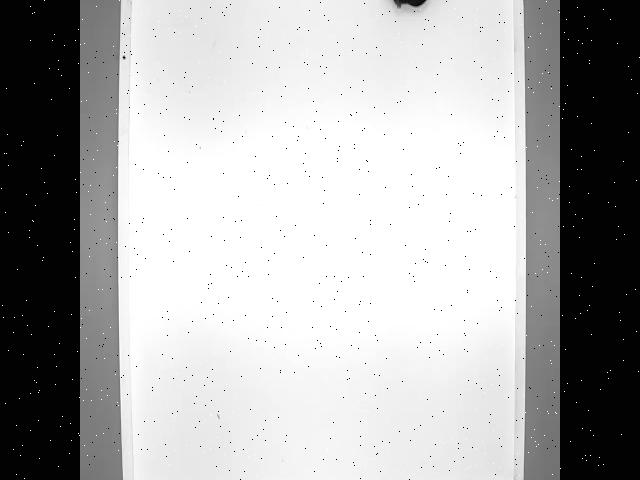Tikus: (384, 0, 451, 10)
